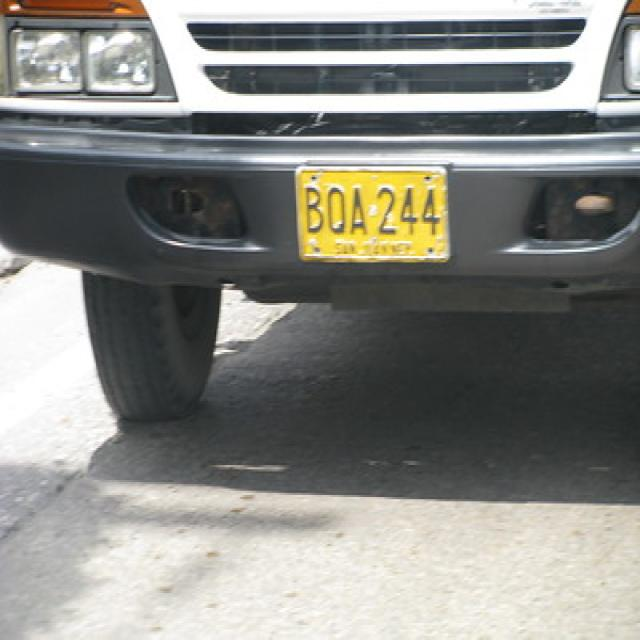placa_carro: (289, 148, 466, 278)
